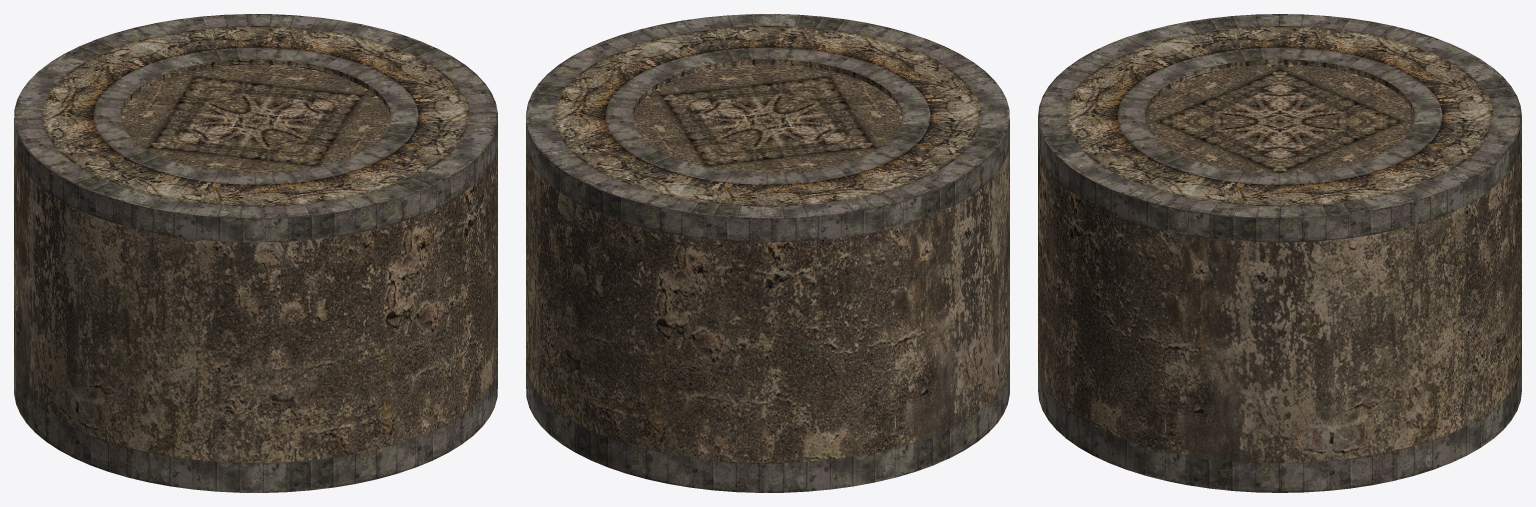
File: materials_5_pillar_fat_9.fbx
The picture shows the model from 3 angles, left to right: view 1: azimuth 30°, elevation 25°; view 2: azimuth 150°, elevation 25°; view 3: azimuth 270°, elevation 25°; orthographic projection.
Visible parts, largest first — view 1: materials_5_pillar_fat_9; view 2: materials_5_pillar_fat_9; view 3: materials_5_pillar_fat_9.
Part boxes in pixels (x1,y1,x2,y2): materials_5_pillar_fat_9: (14,14,497,492); materials_5_pillar_fat_9: (526,14,1009,492); materials_5_pillar_fat_9: (1038,14,1521,492).
Bounding box in the file's own units: 135 × 84.28 × 135.
